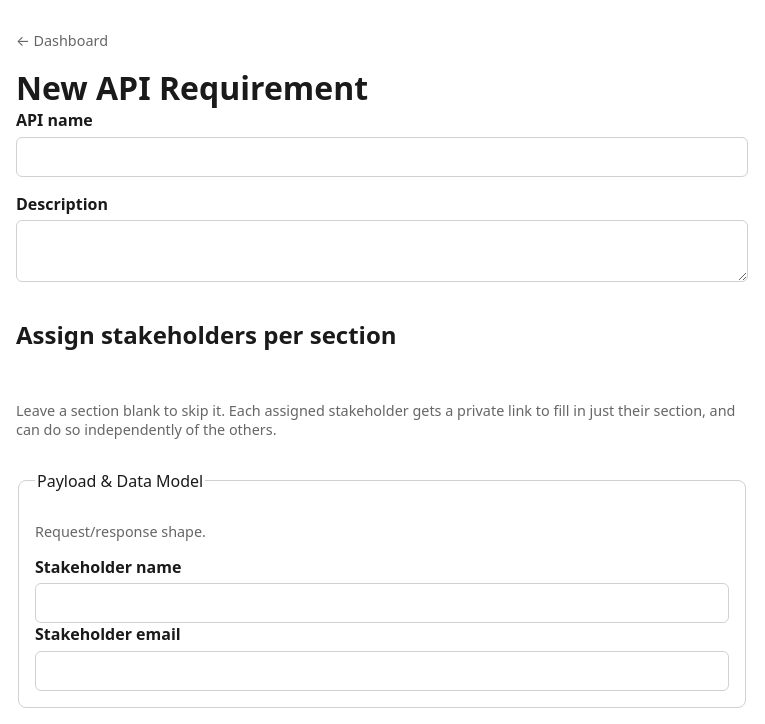
Test: a section with only the name filled (email left blank) is not silently dropped
This screenshot has width=765, height=724.
expect the text "Payload & Data Model" is shown: met, box [35,470,205,492]
Type "Orders API" into the field labelled "API name" at (382, 157), box [16,137,748,177]
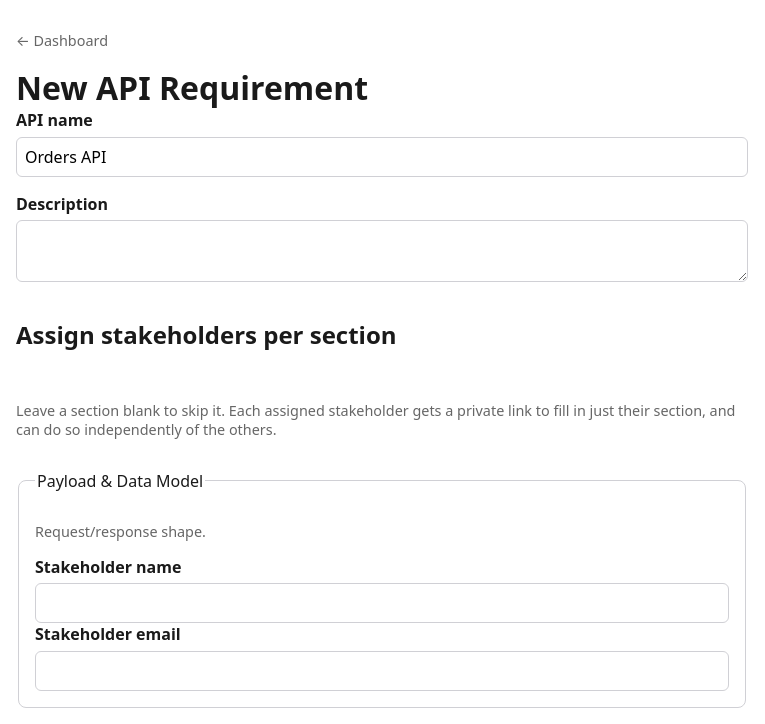
Type "Alice" into the field labelled "Stakeholder name" at (382, 603), box [35,583,729,623]
(page scrolled)
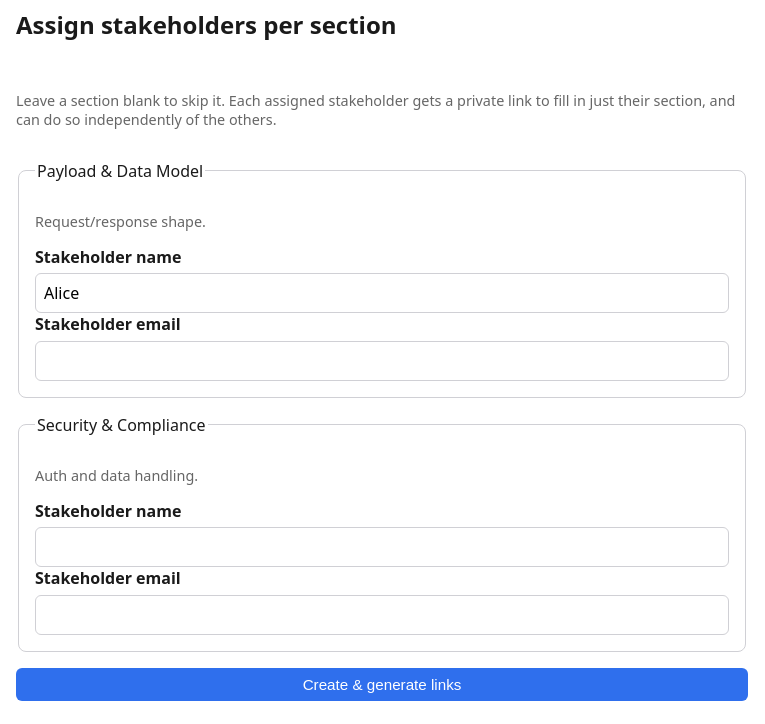
Type "Bob" into the field labelled "Stakeholder name" below "Auth and data handling." at (382, 547), box [35,527,729,567]
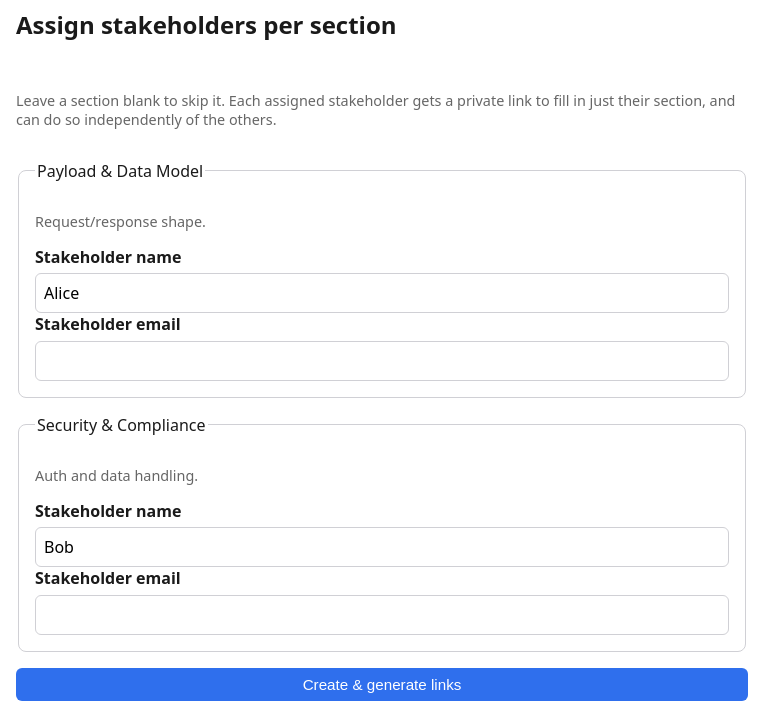
Type "bob@example.com" into the field labelled "Stakeholder email" below "Auth and data handling." at (382, 615), box [35,595,729,635]
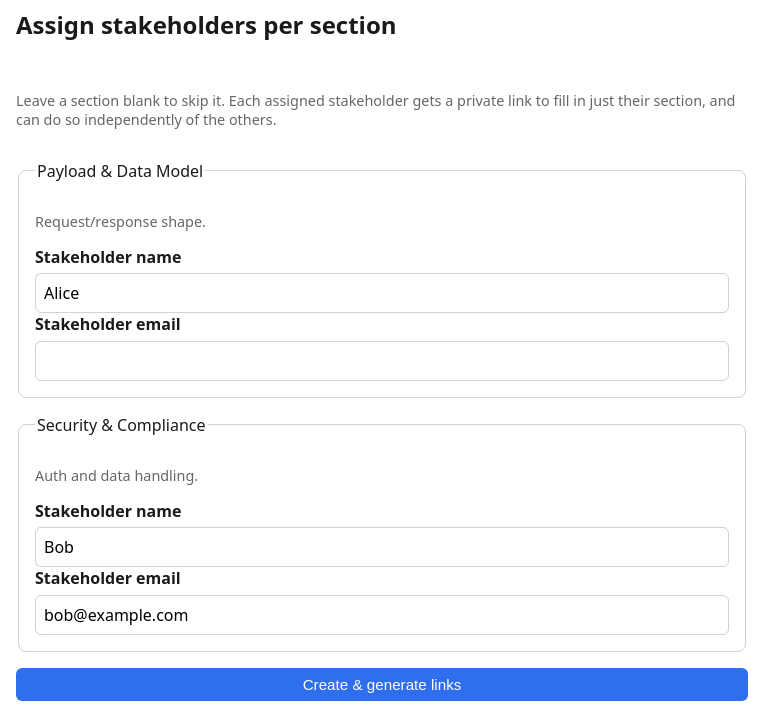
Click the button "Create & generate links" at (382, 684), box [16,668,748,701]
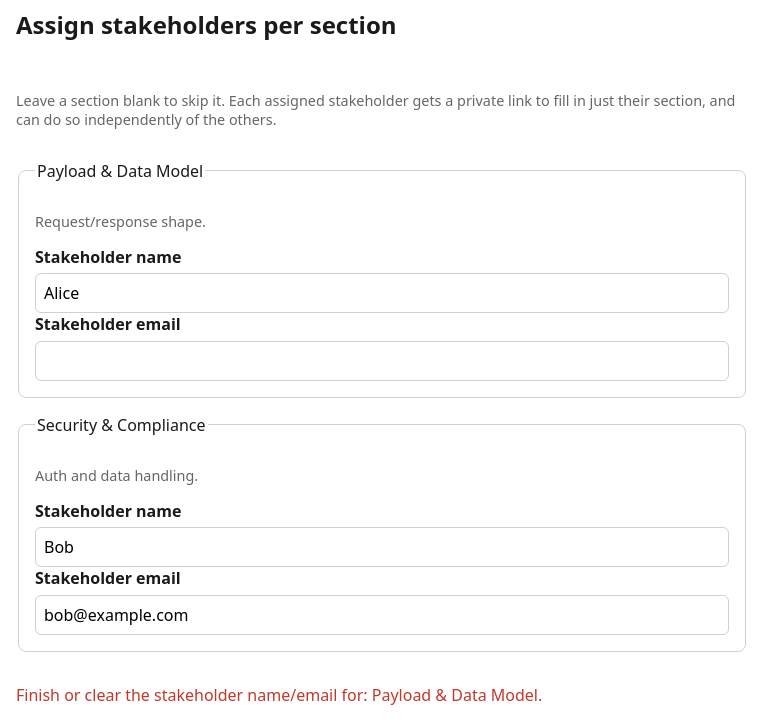
expect the text "Finish or clear the stakeholder name/email for: Payload & Data Model." is shown: met, box [16,684,542,706]
